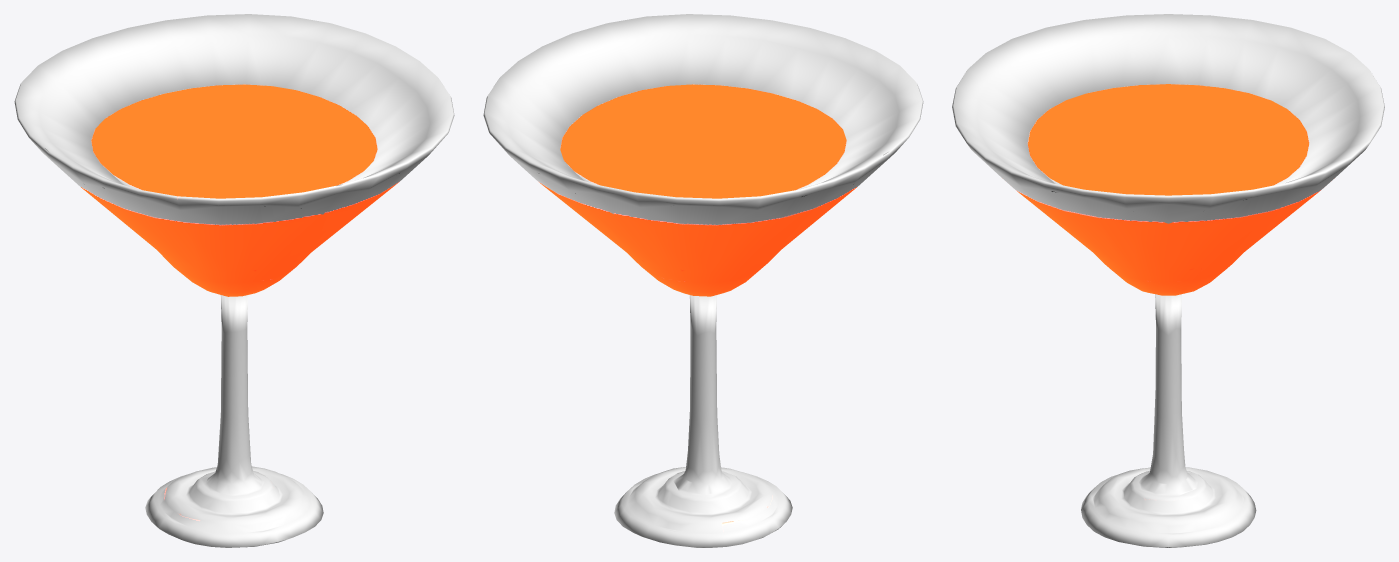
The model's file is drink2_re.fbx.
3 renders of one model, left to right at view 1: azimuth 30°, elevation 25°; view 2: azimuth 150°, elevation 25°; view 3: azimuth 270°, elevation 25°, orthographic.
Visible parts, largest first — view 1: drink2_Baked.003; view 2: drink2_Baked.003; view 3: drink2_Baked.003.
Part boxes in pixels (x1,y1,x2,y2): drink2_Baked.003: [14, 14, 454, 547]; drink2_Baked.003: [483, 14, 923, 547]; drink2_Baked.003: [952, 14, 1384, 547].
Size of the model in its own units: 125 by 130 by 125.
1 material, 1 textured.
